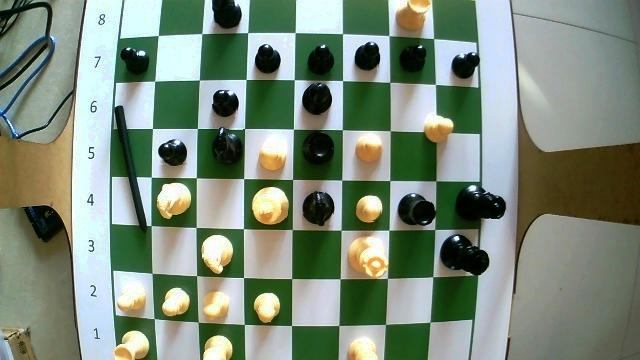piece: (440, 236, 488, 274), (456, 185, 505, 219), (349, 237, 388, 277), (252, 187, 288, 223), (397, 194, 434, 225), (202, 235, 231, 274), (302, 191, 334, 226), (157, 183, 188, 218), (212, 128, 243, 163), (302, 132, 333, 164), (398, 0, 430, 30), (114, 331, 148, 359), (302, 84, 330, 115), (307, 45, 334, 74), (424, 115, 453, 142), (161, 288, 188, 316), (212, 0, 239, 27), (254, 293, 279, 322), (158, 140, 187, 165), (212, 90, 238, 117), (400, 44, 426, 71), (355, 135, 381, 162), (452, 52, 479, 78), (259, 143, 285, 170), (355, 42, 379, 70), (255, 44, 279, 72), (356, 196, 381, 222), (121, 48, 148, 72), (203, 292, 228, 317), (203, 336, 230, 359), (349, 338, 378, 359), (117, 293, 145, 310)
